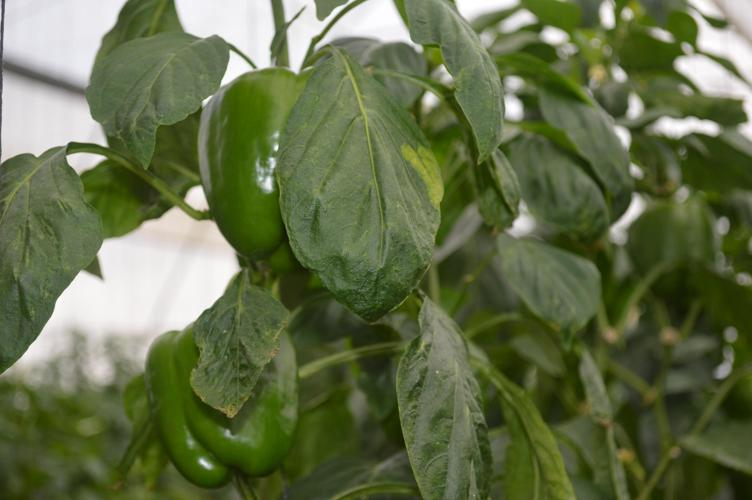BellPepper: (182, 75, 364, 262), (114, 318, 313, 475)
